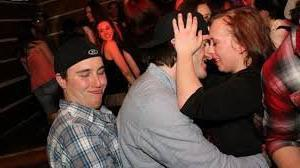Drunk: (77, 60, 108, 107)
